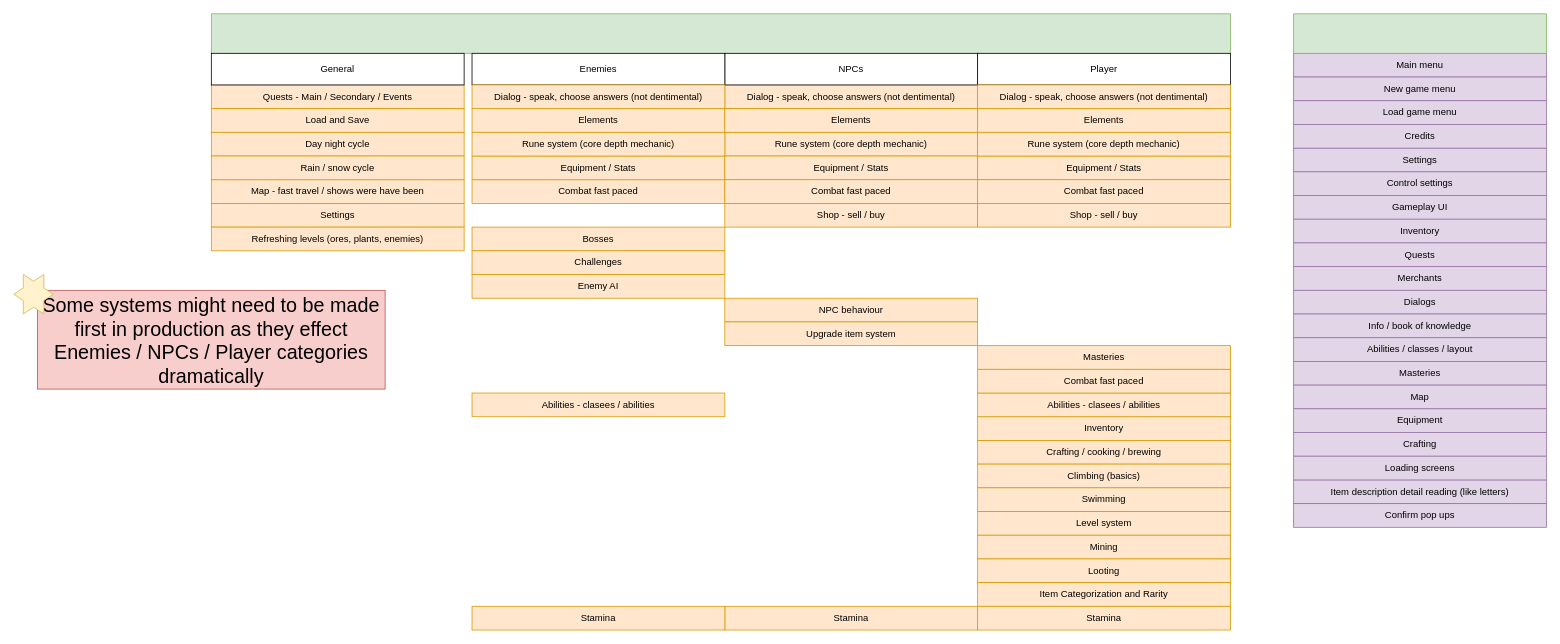
The diagram is 1560 pixels wide and 644 high, and some of its shapes have lost their labels. The shapes that lost their labels are listed below. From the top down, each one's box as (x1, y1, x2, y2) in pixels, then its label:
(211, 13, 1230, 53): Systems
(1293, 13, 1546, 53): UI
